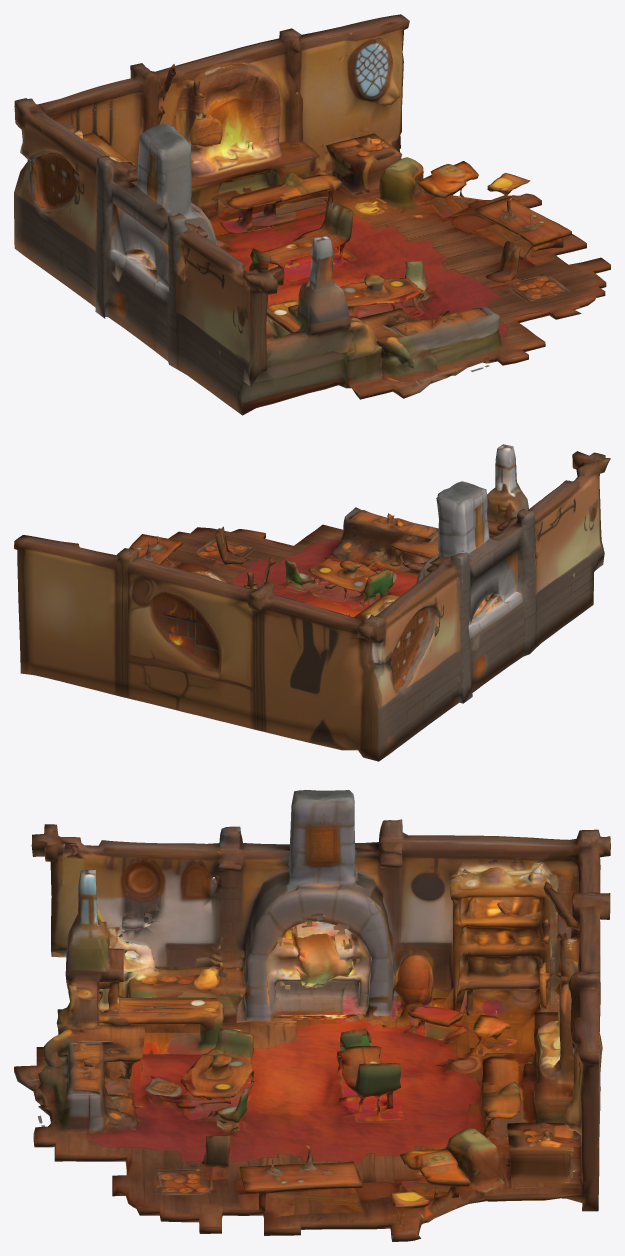
Rendered from medieval.glb.
The picture shows the model from 3 angles, top to bottom: view 1: azimuth 30°, elevation 25°; view 2: azimuth 150°, elevation 25°; view 3: azimuth 270°, elevation 25°; orthographic projection. The views are drawn at different scales.
Size of the model in its own units: 1.98 by 0.83 by 2.
Materials: 1 (1 with a texture image).
